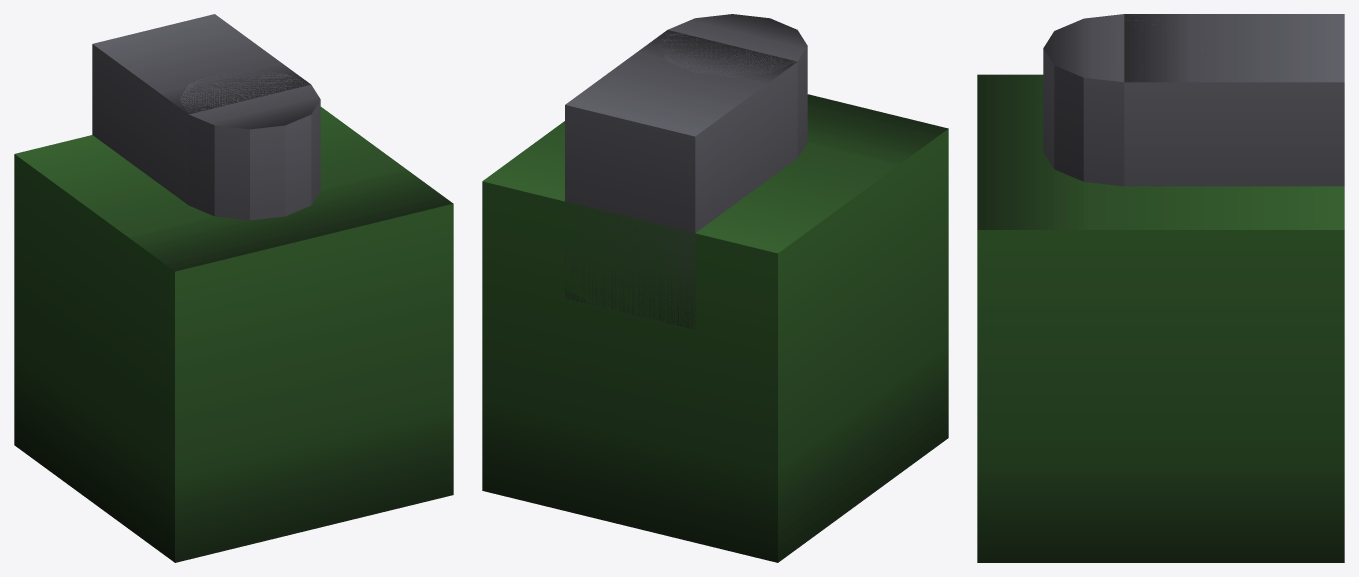
The model's file is path_end.gltf.
The picture shows the model from 3 angles, left to right: view 1: azimuth 30°, elevation 25°; view 2: azimuth 150°, elevation 25°; view 3: azimuth 270°, elevation 25°; orthographic projection. The views are drawn at different scales.
Parts seen in each view (by area): view 1: path_end; view 2: path_end; view 3: path_end.
Part boxes in pixels (bbox=[...]): path_end: bbox=[14, 14, 453, 562]; path_end: bbox=[482, 14, 948, 562]; path_end: bbox=[977, 14, 1344, 562].
Size of the model in its own units: 1 by 1.31 by 1.
1 material, 1 textured.
